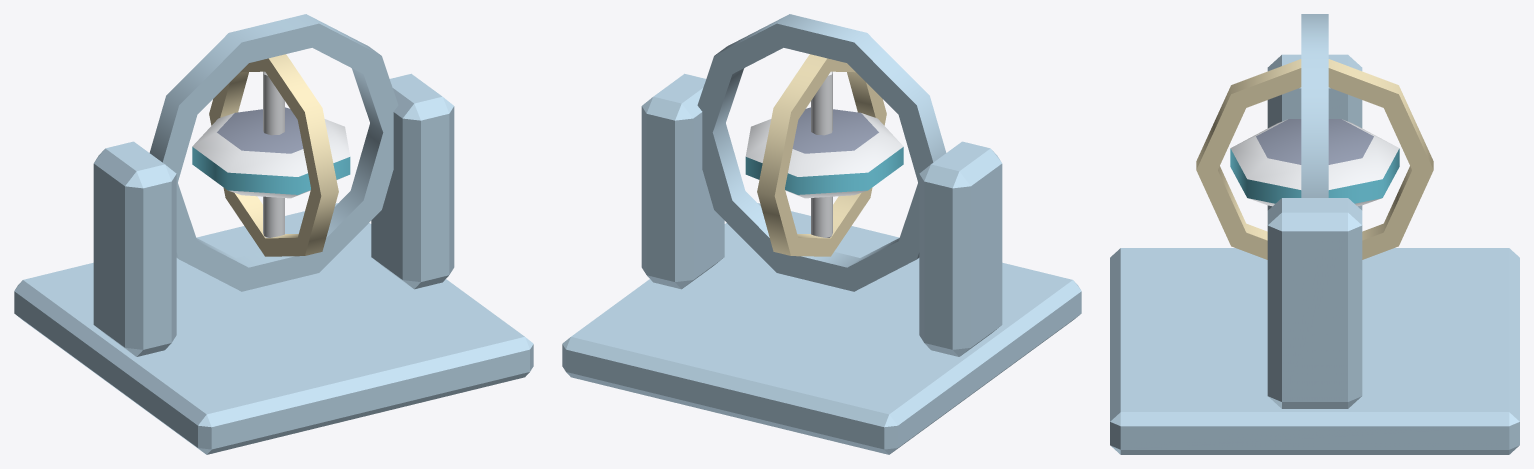
File: R4X_Gyroscope_LOD1.glb
The picture shows the model from 3 angles, left to right: view 1: azimuth 30°, elevation 25°; view 2: azimuth 150°, elevation 25°; view 3: azimuth 270°, elevation 25°; orthographic projection. The views are drawn at different scales.
Parts seen in each view (by area): view 1: R4X_Gyroscope_LOD1; view 2: R4X_Gyroscope_LOD1; view 3: R4X_Gyroscope_LOD1.
Part boxes in pixels (x1,y1,x2,y2): R4X_Gyroscope_LOD1: (14,14,533,454); R4X_Gyroscope_LOD1: (562,14,1081,454); R4X_Gyroscope_LOD1: (1110,14,1519,454).
Size of the model in its own units: 0.52 by 0.4746 by 0.52.
